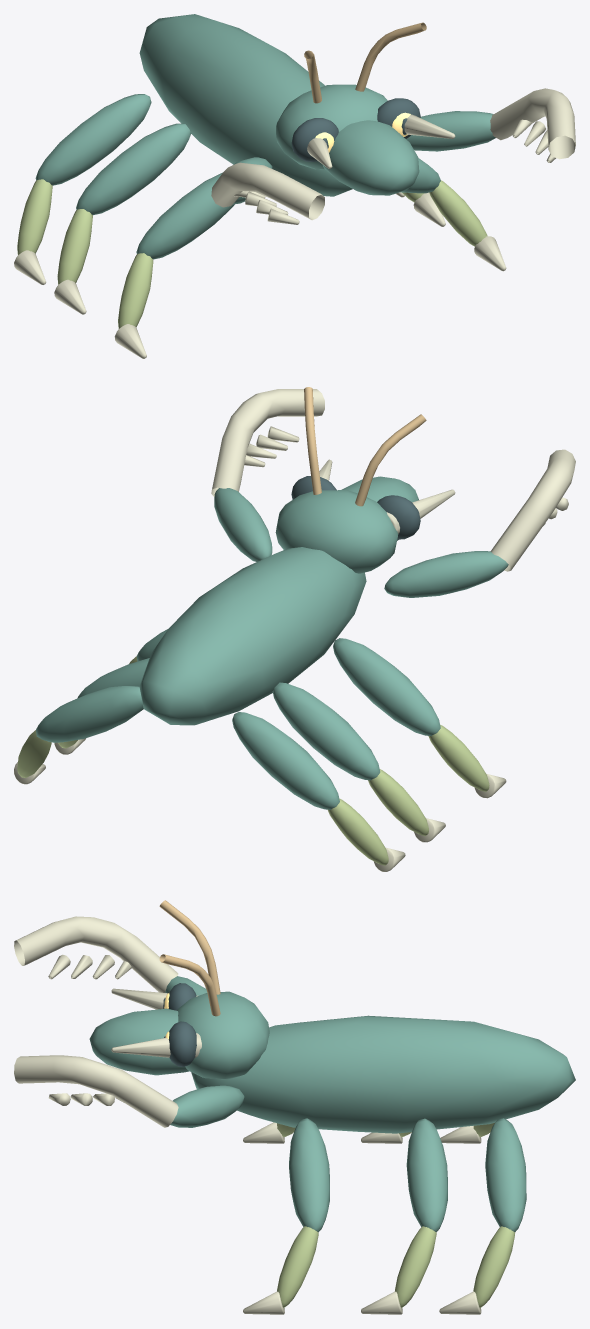
Rendered from bio_mantid_05_far.glb.
3 renders of one model, top to bottom at view 1: azimuth 30°, elevation 25°; view 2: azimuth 150°, elevation 25°; view 3: azimuth 270°, elevation 25°, orthographic. The views are drawn at different scales.
Visible parts, largest first — view 1: Articulated abdomen, Cranium, Upper leg.004, Upper leg.002, Swept scythe, Swept scythe.001, Upper leg, Raptorial arm.001, Protected orbit, Lower leg.004, Lower leg, Lower leg.002 (+9 smaller); view 2: Articulated abdomen, Cranium, Swept scythe.001, Upper leg.004, Upper leg, Upper leg.002, Upper leg.005, Raptorial arm, Swept scythe, Raptorial arm.001, Antenna, Lower leg.004 (+6 smaller); view 3: Articulated abdomen, Cranium, Swept scythe, Swept scythe.001, Upper leg.005, Upper leg.003, Upper leg.001, Raptorial arm.001, Antenna, Lower leg.003, Lower leg.001, Lower leg.005 (+7 smaller).
Part boxes in pixels (bbox=[...]): Articulated abdomen: bbox=[139, 14, 352, 196]; Cranium: bbox=[276, 84, 419, 195]; Upper leg.004: bbox=[35, 94, 151, 185]; Upper leg.002: bbox=[76, 123, 191, 215]; Swept scythe: bbox=[211, 162, 324, 224]; Swept scythe.001: bbox=[490, 88, 575, 162]; Upper leg: bbox=[136, 172, 234, 259]; Raptorial arm.001: bbox=[406, 111, 495, 151]; Protected orbit: bbox=[291, 98, 420, 161]; Lower leg.004: bbox=[17, 179, 52, 254]; Lower leg: bbox=[118, 253, 153, 328]; Lower leg.002: bbox=[57, 209, 92, 284]; Articulated abdomen: bbox=[139, 547, 366, 725]; Cranium: bbox=[275, 476, 418, 573]; Swept scythe.001: bbox=[211, 389, 324, 496]; Upper leg.004: bbox=[232, 712, 339, 809]; Upper leg: bbox=[333, 638, 440, 735]; Upper leg.002: bbox=[272, 682, 380, 780]; Upper leg.005: bbox=[36, 686, 143, 742]; Raptorial arm: bbox=[384, 551, 508, 597]; Swept scythe: bbox=[490, 449, 575, 571]; Raptorial arm.001: bbox=[214, 488, 272, 561]; Antenna: bbox=[304, 387, 426, 506]; Lower leg.004: bbox=[328, 798, 388, 865]; Articulated abdomen: bbox=[191, 1015, 575, 1133]; Cranium: bbox=[89, 991, 269, 1079]; Swept scythe: bbox=[14, 916, 178, 992]; Swept scythe.001: bbox=[14, 1055, 178, 1127]; Upper leg.005: bbox=[485, 1118, 526, 1231]; Upper leg.003: bbox=[406, 1118, 447, 1231]; Upper leg.001: bbox=[289, 1118, 329, 1232]; Raptorial arm.001: bbox=[170, 1085, 244, 1127]; Antenna: bbox=[159, 900, 220, 1016]; Lower leg.003: bbox=[395, 1226, 436, 1307]; Lower leg.001: bbox=[277, 1226, 318, 1307]; Lower leg.005: bbox=[473, 1226, 515, 1307].
Bounding box in the file's own units: 2.51 × 1.94 × 3.29.
